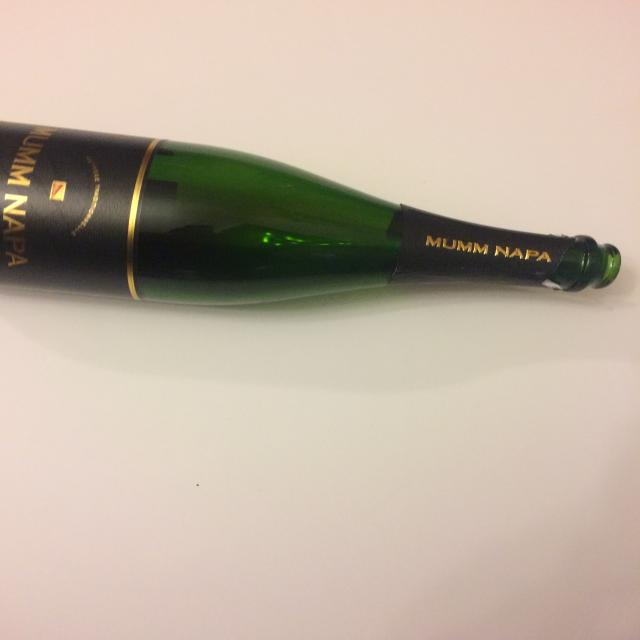glass: (0, 118, 622, 307)
